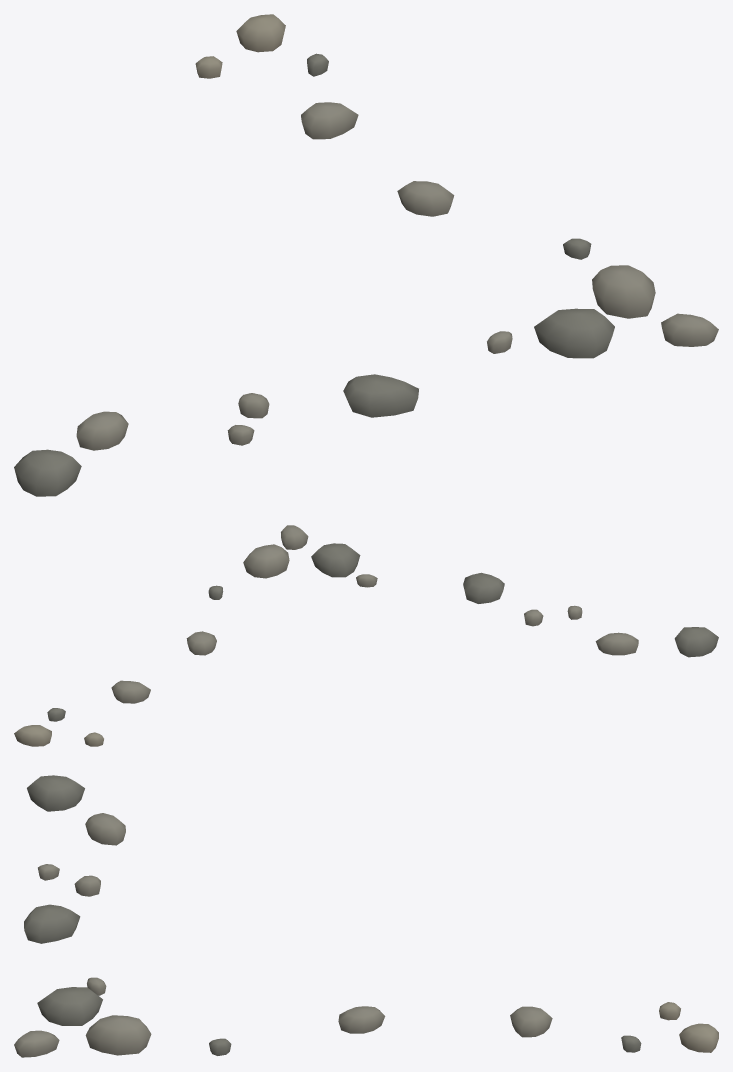
File: tile_pebbles_corner_04.glb
3 views of the same model, one above another, from view 1: azimuth 30°, elevation 25°; view 2: azimuth 150°, elevation 25°; view 3: azimuth 270°, elevation 25° (orthographic). The views are drawn at different scales.
Parts seen in each view (by area): view 1: tile_pebbles_corner_04; view 2: tile_pebbles_corner_04; view 3: tile_pebbles_corner_04.
Part boxes in pixels (box(x1,y1,x2,y2)): tile_pebbles_corner_04: box(14, 14, 718, 496); tile_pebbles_corner_04: box(14, 525, 718, 746); tile_pebbles_corner_04: box(14, 775, 718, 1057).
Size of the model in its own units: 0.8424 by 0.0382 by 0.9372.
Materials: 1 (1 with a texture image).
